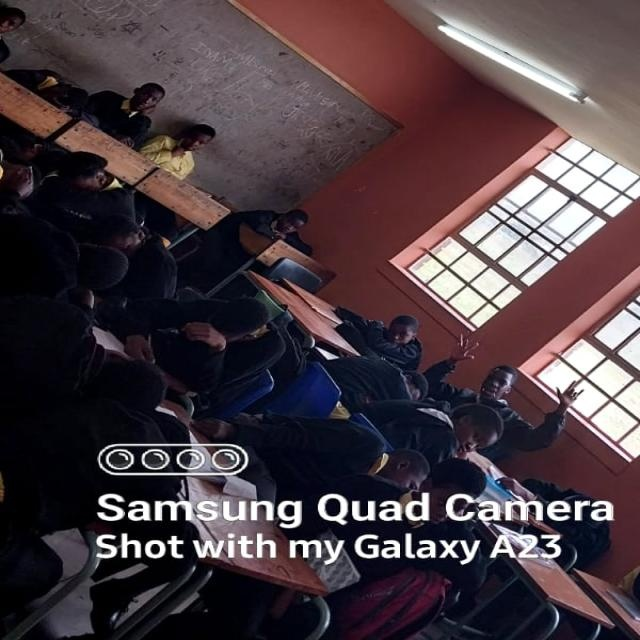fluorescent tube: (416, 2, 629, 124), (482, 0, 640, 2)
